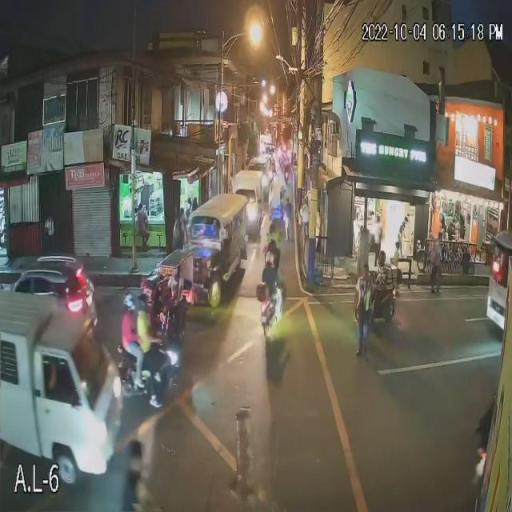helmet: (124, 292, 138, 307), (264, 254, 275, 265), (378, 250, 386, 262)
motorcycle: (116, 337, 183, 410), (256, 282, 286, 340), (366, 277, 398, 325)
rider: (120, 292, 159, 396), (260, 255, 284, 313), (373, 250, 393, 298), (264, 235, 282, 272)
